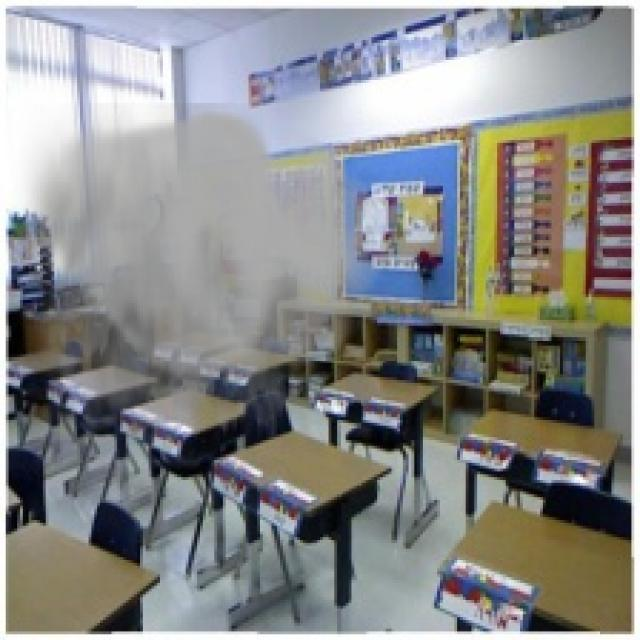Smoke: (11, 102, 380, 478)
